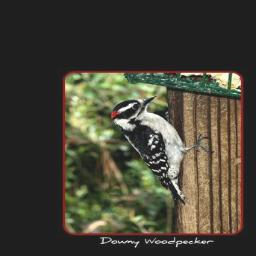Woodpecker: (110, 95, 216, 203)
